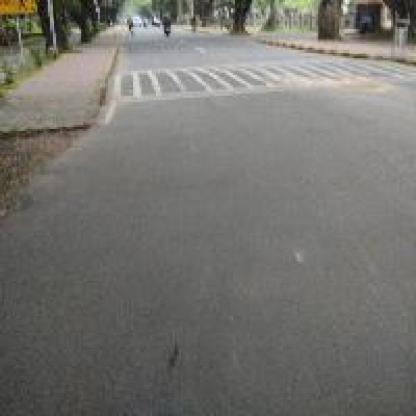Speed Bump: (110, 54, 412, 106)
